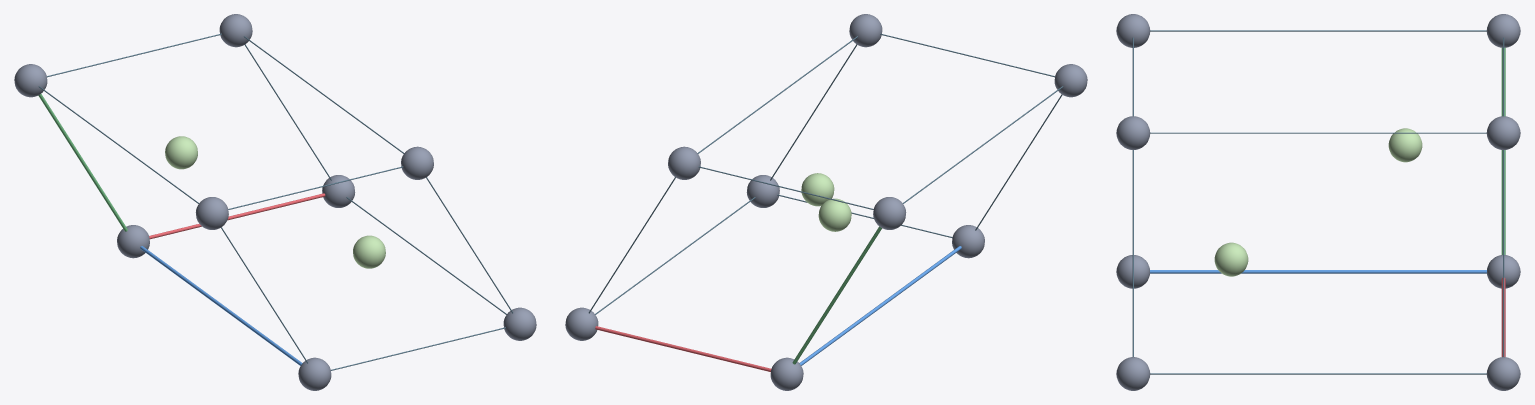
Rendered from chat-lead-iodide.glb.
The picture shows the model from 3 angles, left to right: view 1: azimuth 30°, elevation 25°; view 2: azimuth 150°, elevation 25°; view 3: azimuth 270°, elevation 25°; orthographic projection. The views are drawn at different scales.
Visible parts, largest first — view 1: Pb · Pb · 1 (×8), Ô mạng và các trục a, b, c, I · I · 1 (×2); view 2: Pb · Pb · 1 (×8), Ô mạng và các trục a, b, c, I · I · 1 (×2); view 3: Pb · Pb · 1 (×8), Ô mạng và các trục a, b, c, I · I · 1 (×2).
Part boxes in pixels (x1=…): Pb · Pb · 1 (×8): x1=14, y1=14, x2=536, y2=390; Ô mạng và các trục a, b, c: x1=38, y1=33, x2=513, y2=370; I · I · 1 (×2): x1=165, y1=136, x2=385, y2=268; Pb · Pb · 1 (×8): x1=565, y1=14, x2=1087, y2=390; Ô mạng và các trục a, b, c: x1=588, y1=33, x2=1063, y2=371; I · I · 1 (×2): x1=801, y1=173, x2=851, y2=231; Pb · Pb · 1 (×8): x1=1116, y1=14, x2=1520, y2=390; Ô mạng và các trục a, b, c: x1=1132, y1=30, x2=1505, y2=374; I · I · 1 (×2): x1=1214, y1=128, x2=1422, y2=276.
Size of the model in its own units: 7.47 by 4.58 by 7.62.
